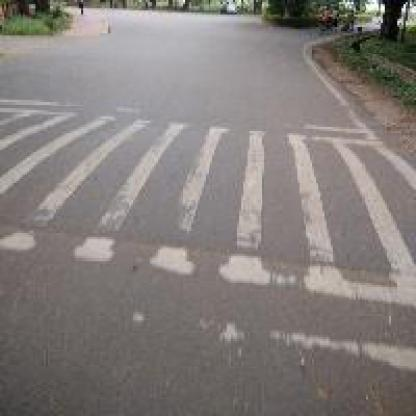Speed Bump: (0, 92, 414, 382)
